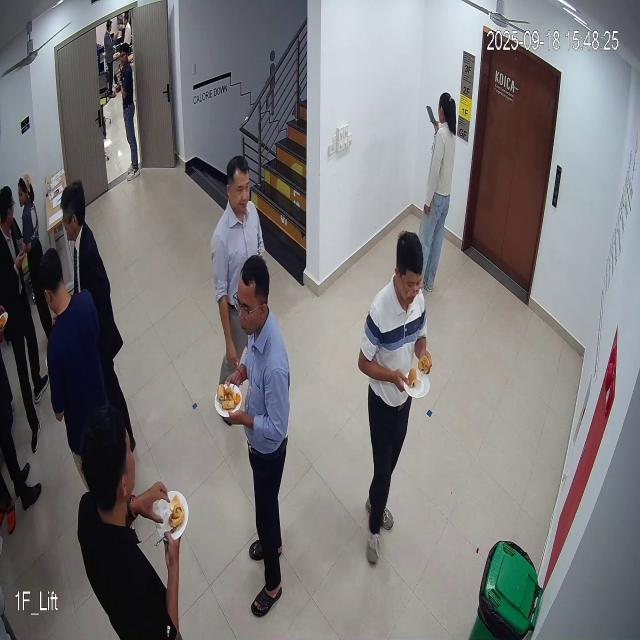face: (234, 253, 279, 344), (390, 223, 432, 313), (224, 154, 253, 218)
